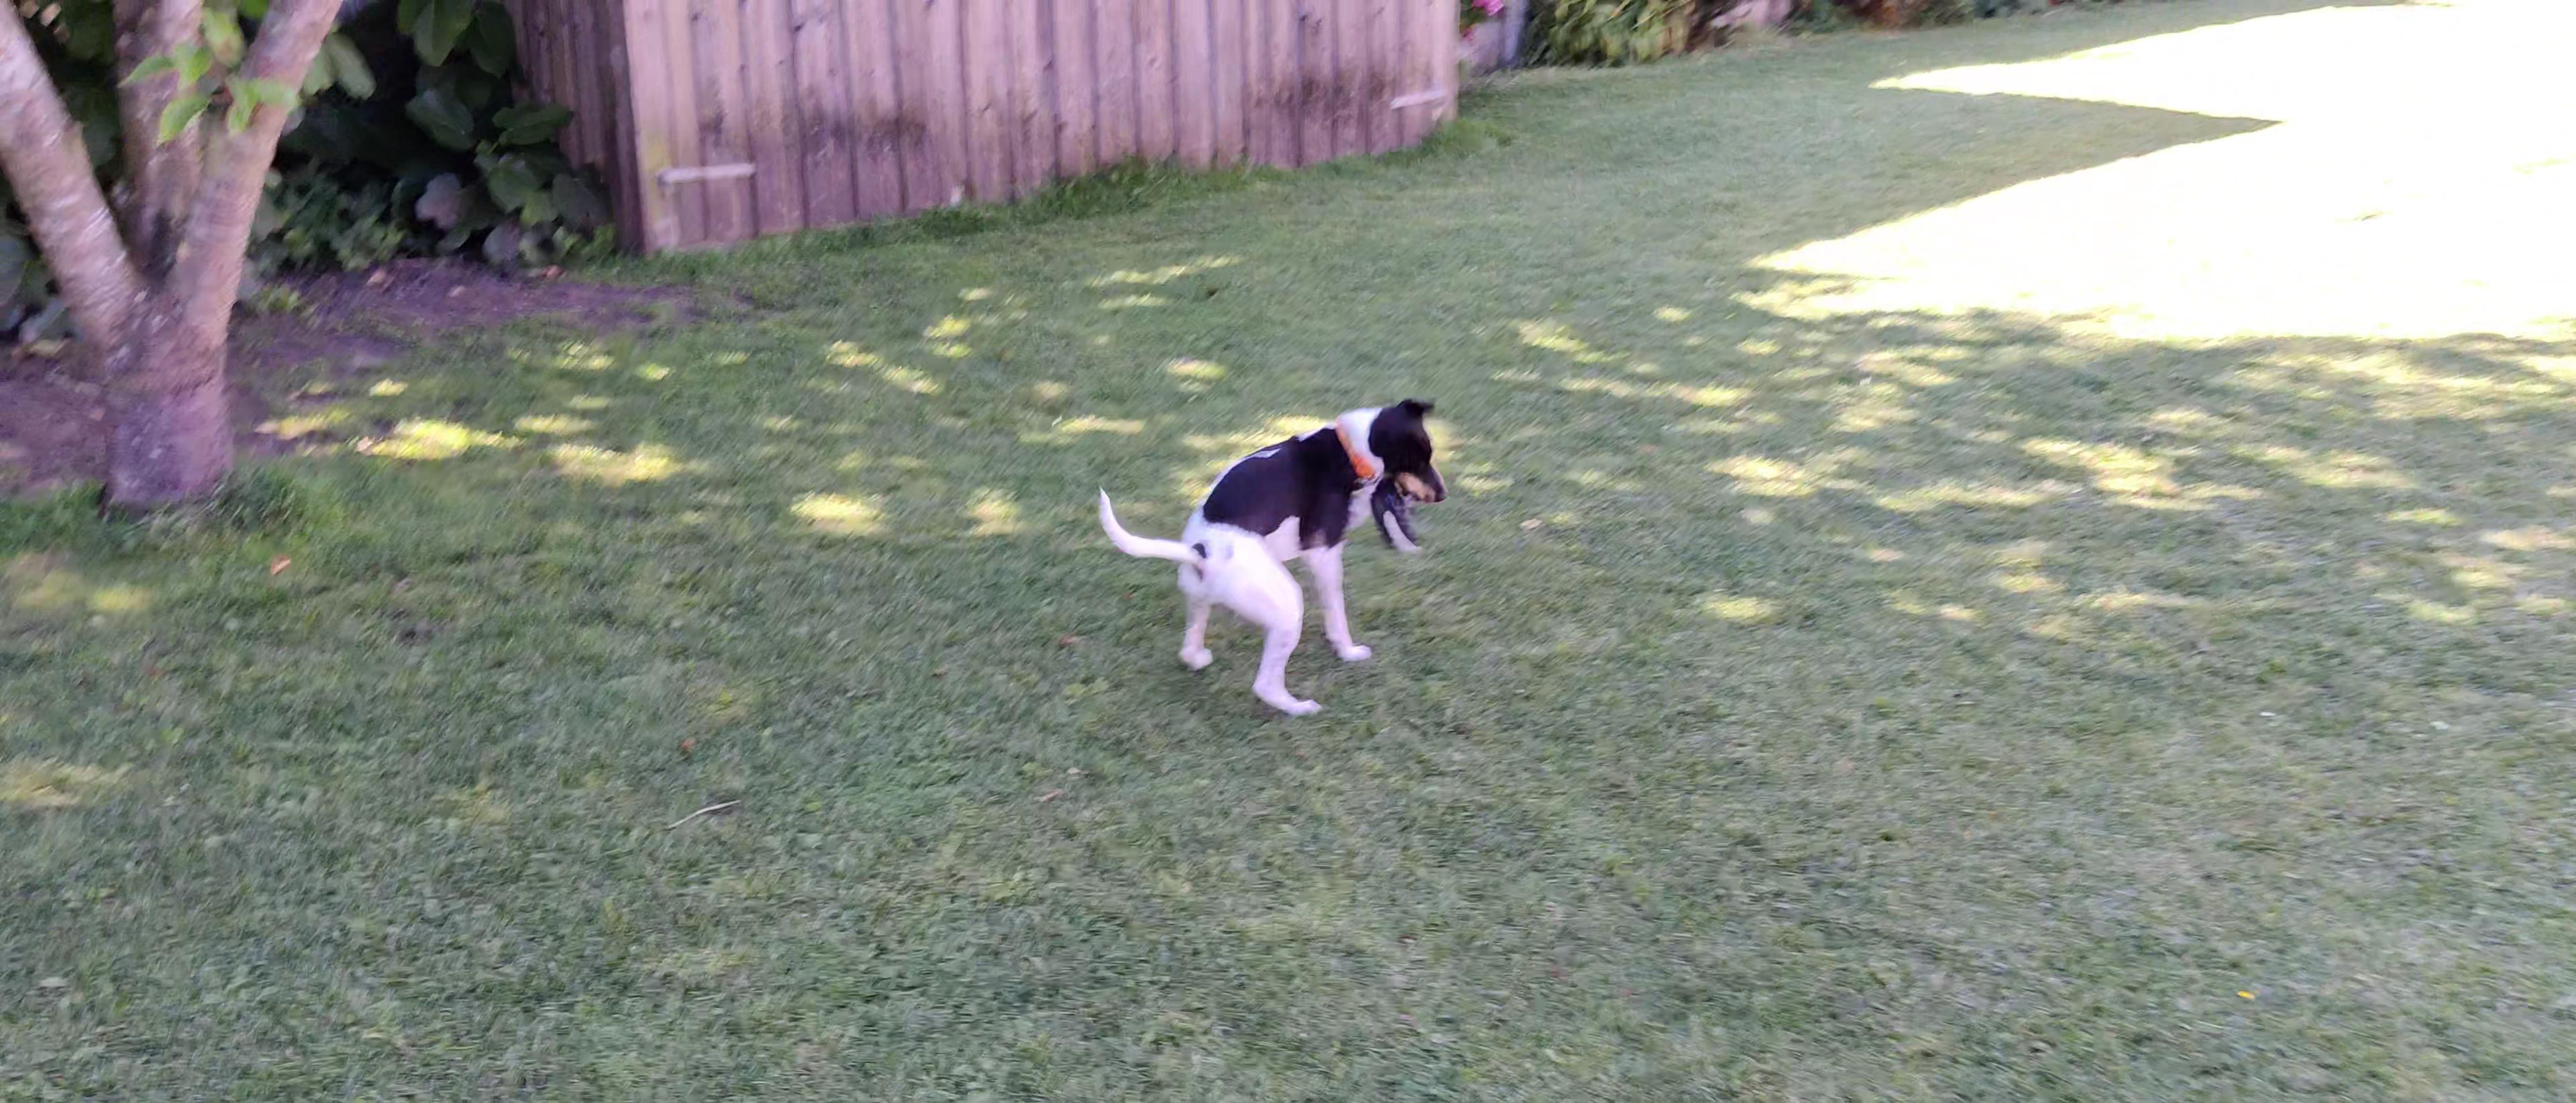Dog: (1096, 395, 1449, 720)
